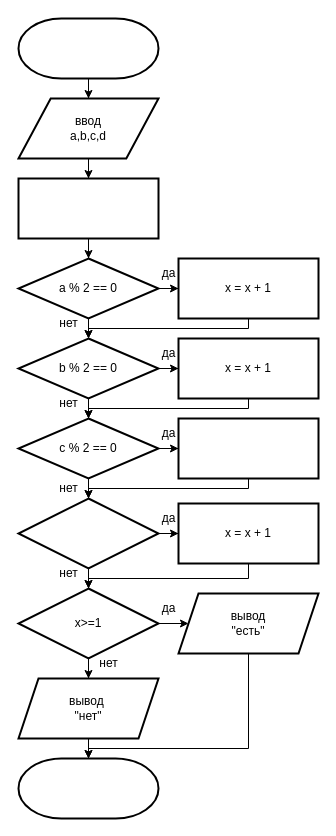
This 336x836 diagram has some shape labels left out. Each missing label, with the centre of its shape:
d % 2 == 0: (x=88, y=533)
конец: (x=88, y=788)
начало: (x=88, y=48)
х = 0: (x=88, y=208)
х = х+ 1: (x=248, y=448)
